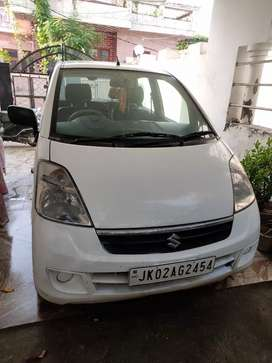JK02AG2454: (129, 256, 214, 285)
